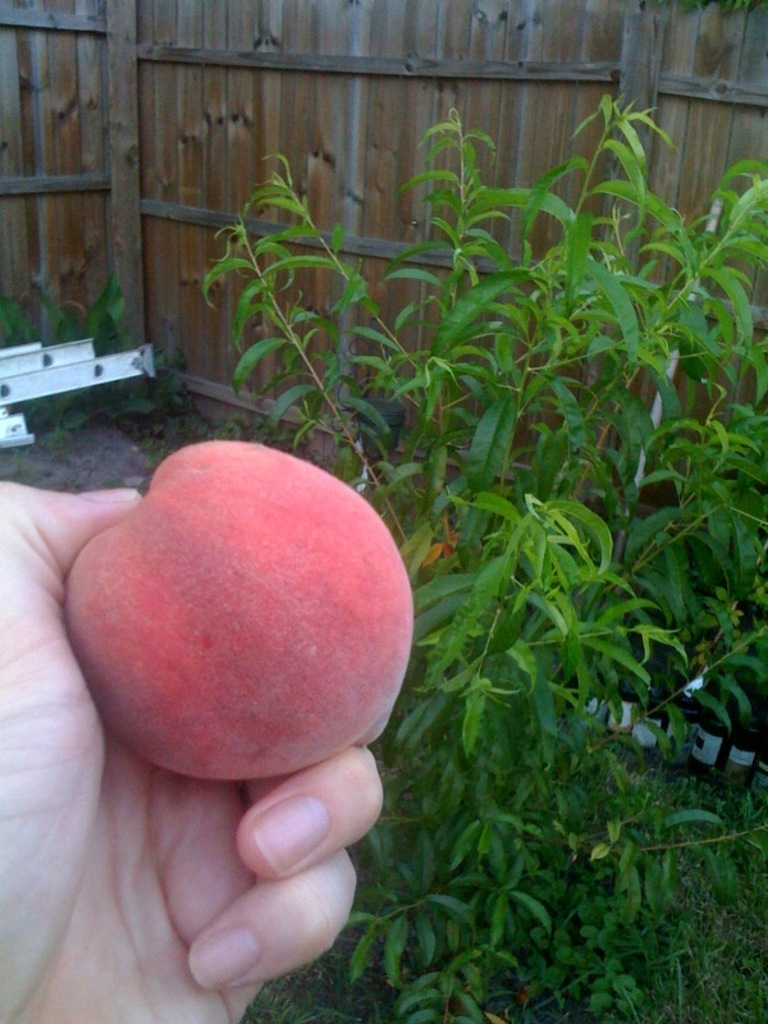Apple: (63, 431, 416, 771)
